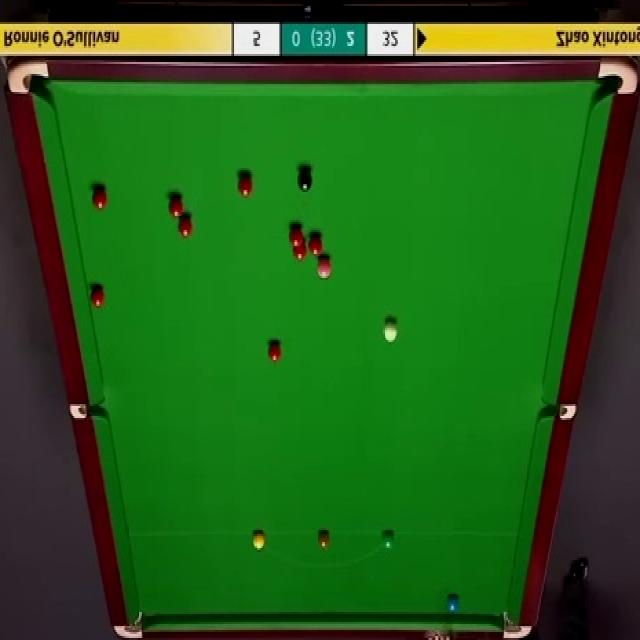pocket: (6, 58, 52, 102), (597, 55, 639, 97), (113, 606, 146, 639), (69, 400, 107, 423), (502, 612, 532, 640), (539, 403, 577, 420)
